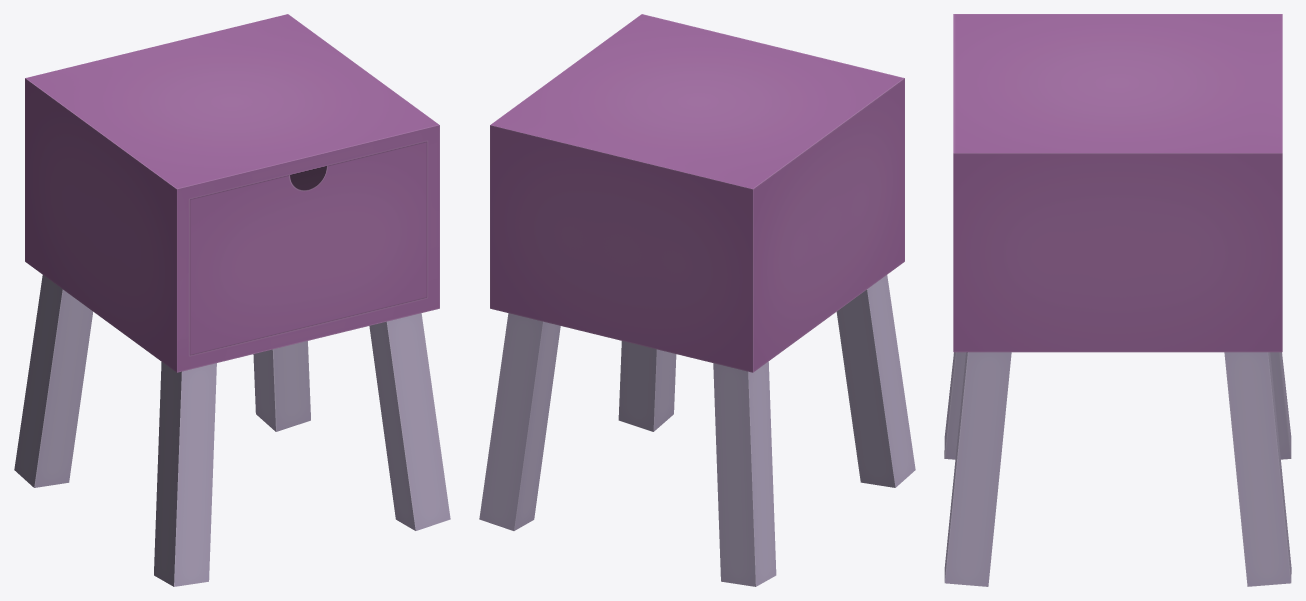
Rendered from [fbx]table.fbx.
3 renders of one model, left to right at view 1: azimuth 30°, elevation 25°; view 2: azimuth 150°, elevation 25°; view 3: azimuth 270°, elevation 25°, orthographic. The views are drawn at different scales.
Visible parts, largest first — view 1: Box001; view 2: Box001; view 3: Box001.
Boxes of the visible parts, x1,y1,x2,y2 form: Box001: (14, 14, 450, 586); Box001: (479, 14, 915, 586); Box001: (944, 14, 1291, 586).
Bounding box in the file's own units: 63.22 × 87.07 × 63.22.
1 material, 1 textured.
